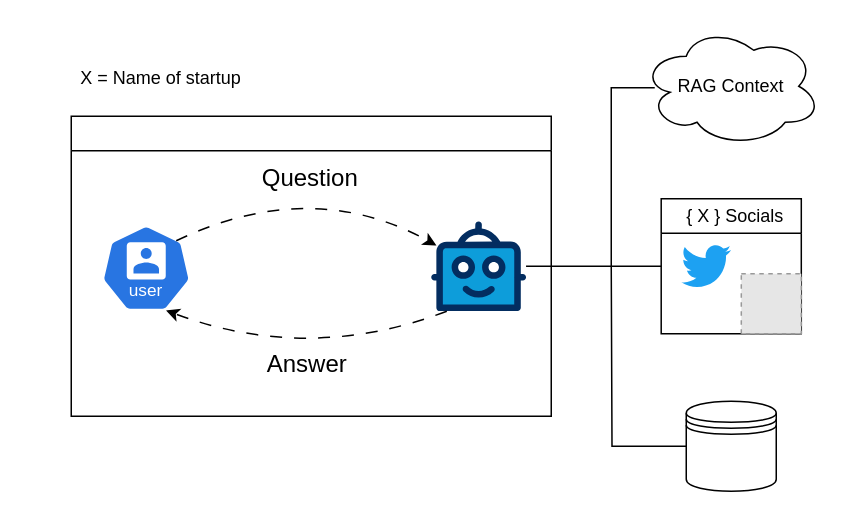
Image size: 848x518. Some labels were removed from this diagram. Grey dashed boxes stand in for pictures. The shapes that lost their labels are listed below. From the top down, each one's centre as x and y in pixels, then its label:
At pixel 310 265: "{ X } Investment Group".
At pixel 730 445: "DB".
